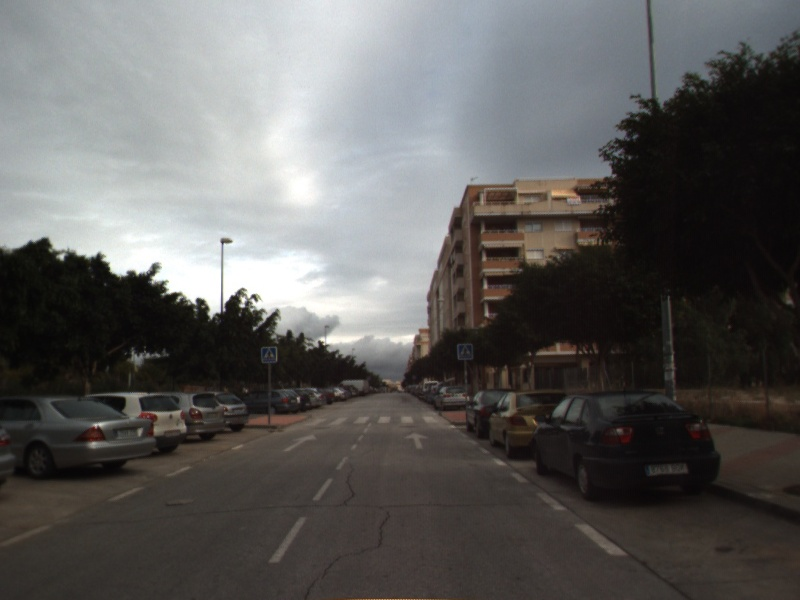STRAIGHT: (281, 432, 319, 453), (402, 430, 430, 451)
